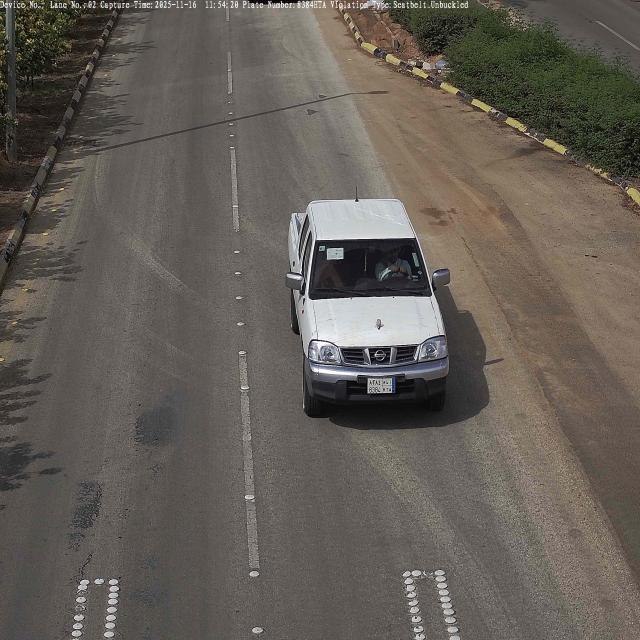person_without_seatbelt: (375, 243, 412, 284)
